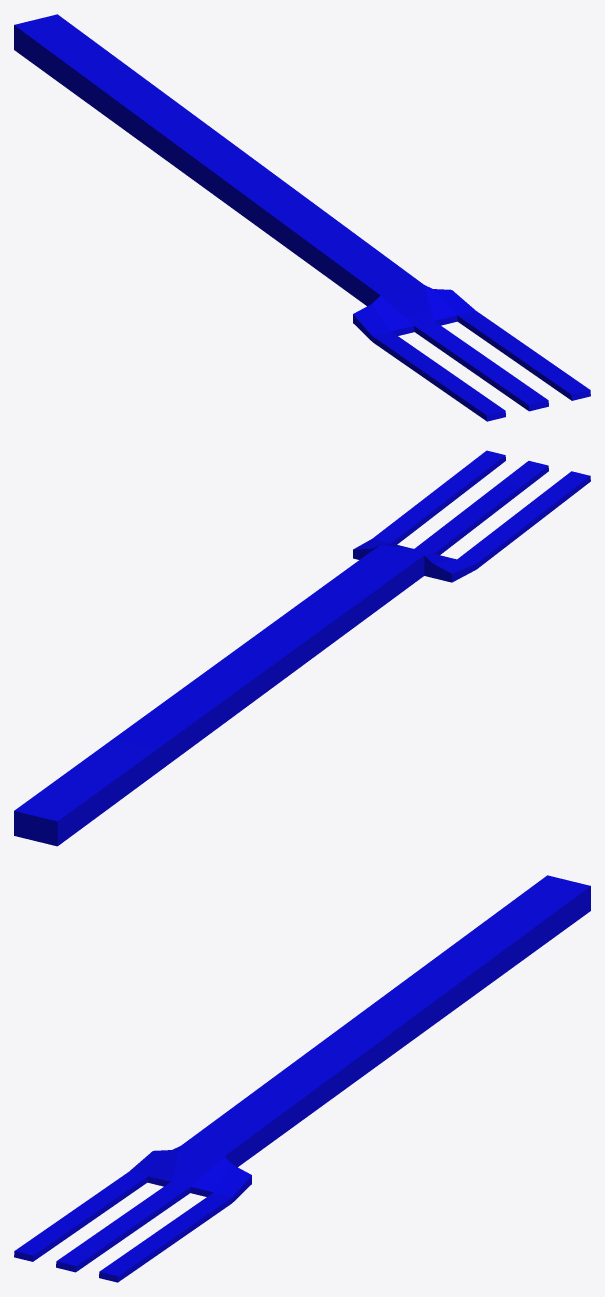
File: SM_Prop_FoodFork.fbx
3 views of the same model, one above another, from view 1: azimuth 30°, elevation 25°; view 2: azimuth 150°, elevation 25°; view 3: azimuth 330°, elevation 25° (orthographic).
Visible parts, largest first — view 1: SM_Prop_FoodFork; view 2: SM_Prop_FoodFork; view 3: SM_Prop_FoodFork.
Boxes of the visible parts, <box> form: SM_Prop_FoodFork: <box>14,14,590,421</box>; SM_Prop_FoodFork: <box>14,450,590,846</box>; SM_Prop_FoodFork: <box>14,875,590,1282</box>.
Bounding box in the file's own units: 2.38 × 0.5577 × 20.01.
